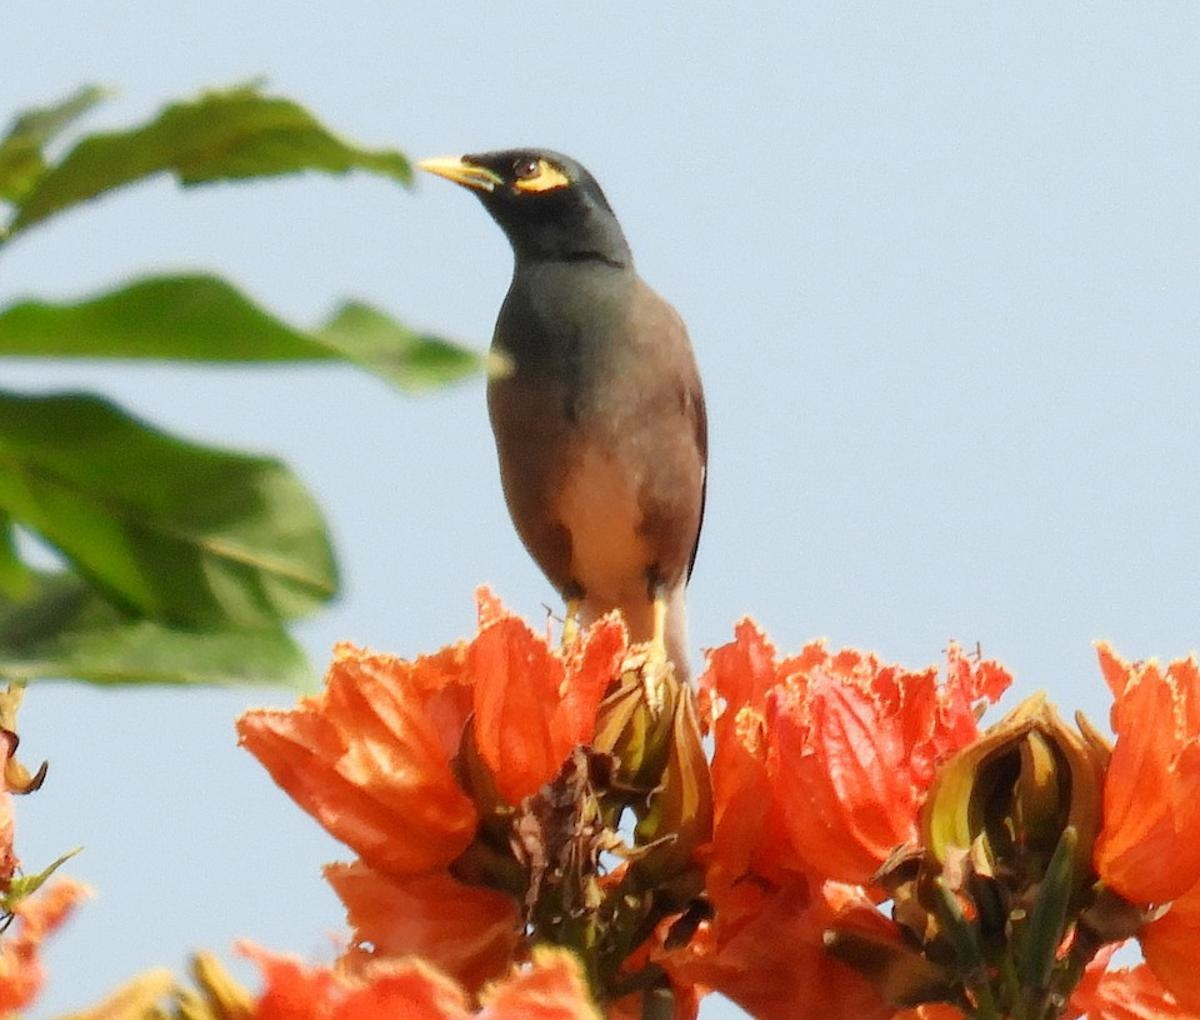myna: (364, 136, 794, 710)
